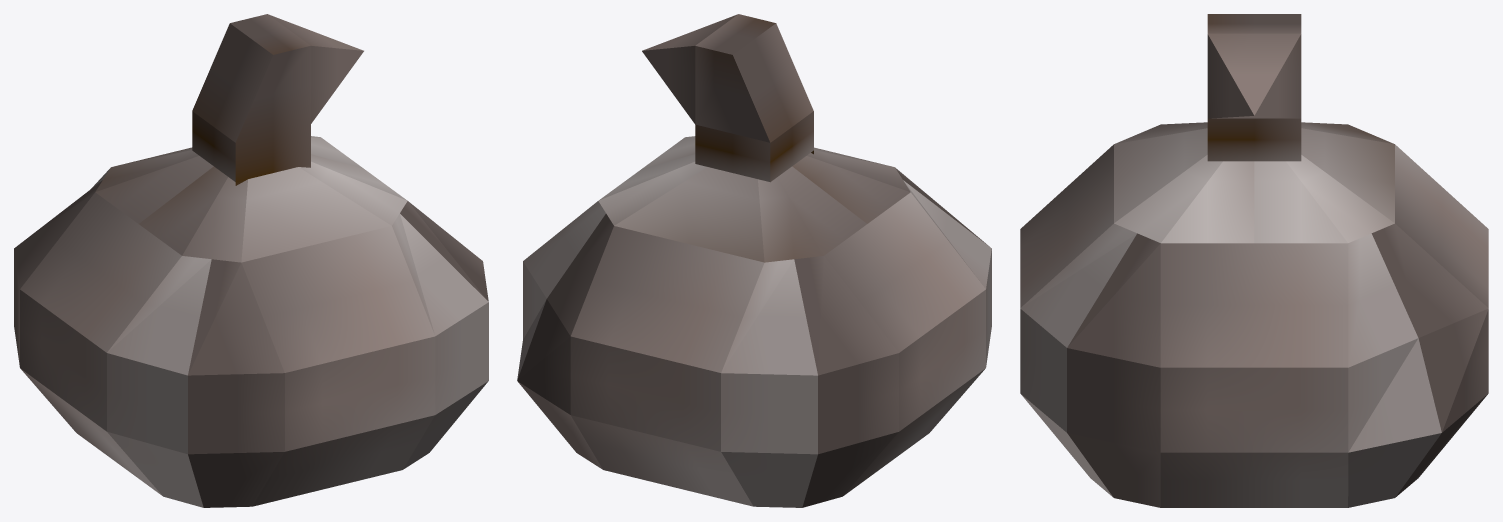
Rendered from bag.obj.
3 views of the same model, side by side, from view 1: azimuth 30°, elevation 25°; view 2: azimuth 150°, elevation 25°; view 3: azimuth 270°, elevation 25° (orthographic). The views are drawn at different scales.
Visible parts, largest first — view 1: Default; view 2: Default; view 3: Default.
Part boxes in pixels (box(x1,y1,x2,y2)): Default: box(14, 14, 488, 507); Default: box(517, 14, 991, 507); Default: box(1020, 14, 1488, 507).
Size of the model in its own units: 0.625 by 0.625 by 0.625.
